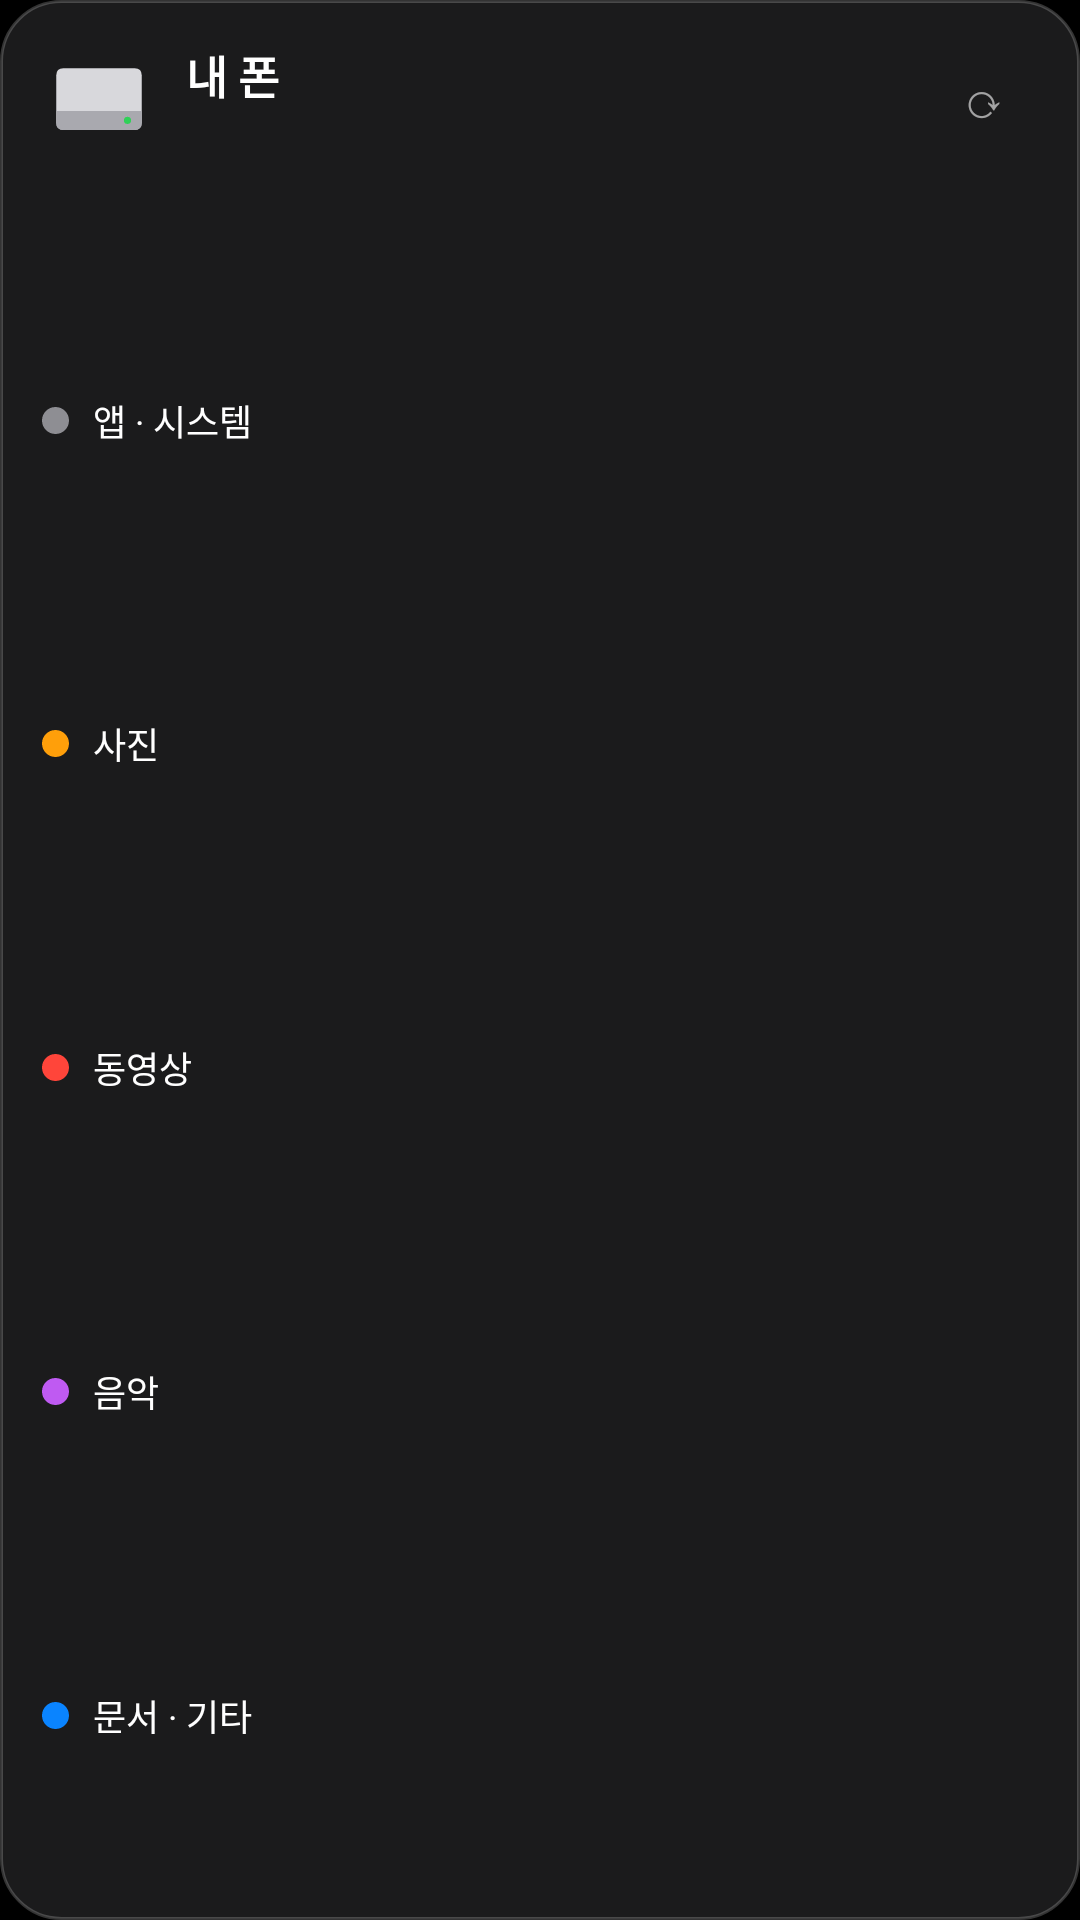

Screen size 1080w x 1920h. Icon name, then its center in pixels as (x,y):
drive: (99,99)
